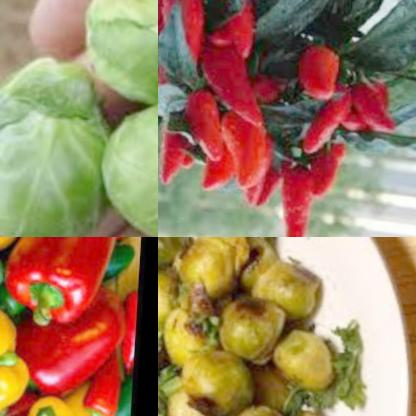bell pepper: (0, 237, 141, 416)
brus capusta: (158, 237, 358, 416), (0, 30, 126, 227), (88, 83, 158, 237), (67, 0, 158, 96)
hot pepper: (195, 34, 271, 123), (158, 0, 205, 98), (218, 101, 270, 187), (278, 151, 326, 237), (183, 88, 236, 158), (243, 151, 295, 217), (294, 42, 347, 99), (349, 74, 403, 129), (158, 124, 203, 190), (311, 136, 354, 198), (217, 0, 259, 54), (158, 0, 169, 38)
